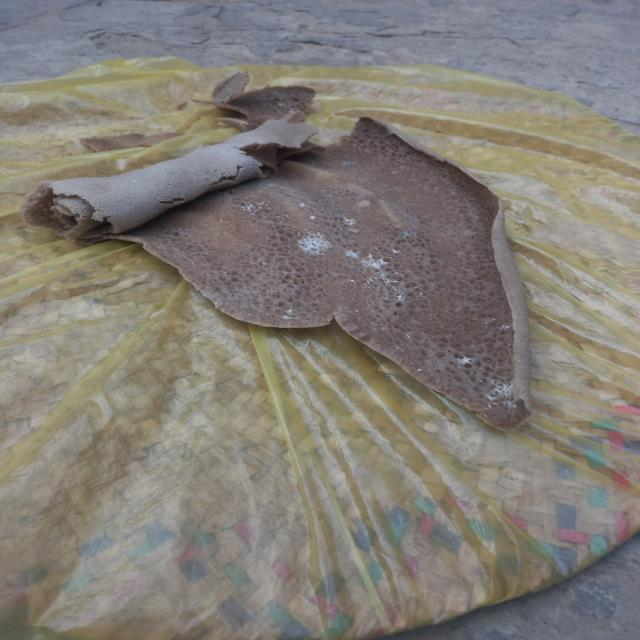injera_mold: (485, 378, 519, 417), (300, 230, 332, 260), (359, 252, 393, 278), (452, 350, 477, 370), (239, 198, 270, 214), (350, 278, 399, 288), (275, 308, 302, 321), (498, 320, 514, 336), (341, 214, 358, 227), (345, 249, 359, 263), (395, 294, 413, 304), (342, 159, 356, 169), (276, 213, 290, 223), (414, 285, 424, 298), (483, 318, 497, 327), (403, 330, 414, 340), (307, 213, 318, 222), (390, 247, 400, 256), (398, 232, 412, 238), (296, 201, 306, 209), (396, 345, 406, 353), (370, 247, 384, 252), (389, 289, 406, 293), (395, 270, 404, 277), (352, 307, 361, 314), (508, 342, 512, 356), (415, 366, 423, 372), (134, 180, 140, 184), (177, 228, 183, 232)
